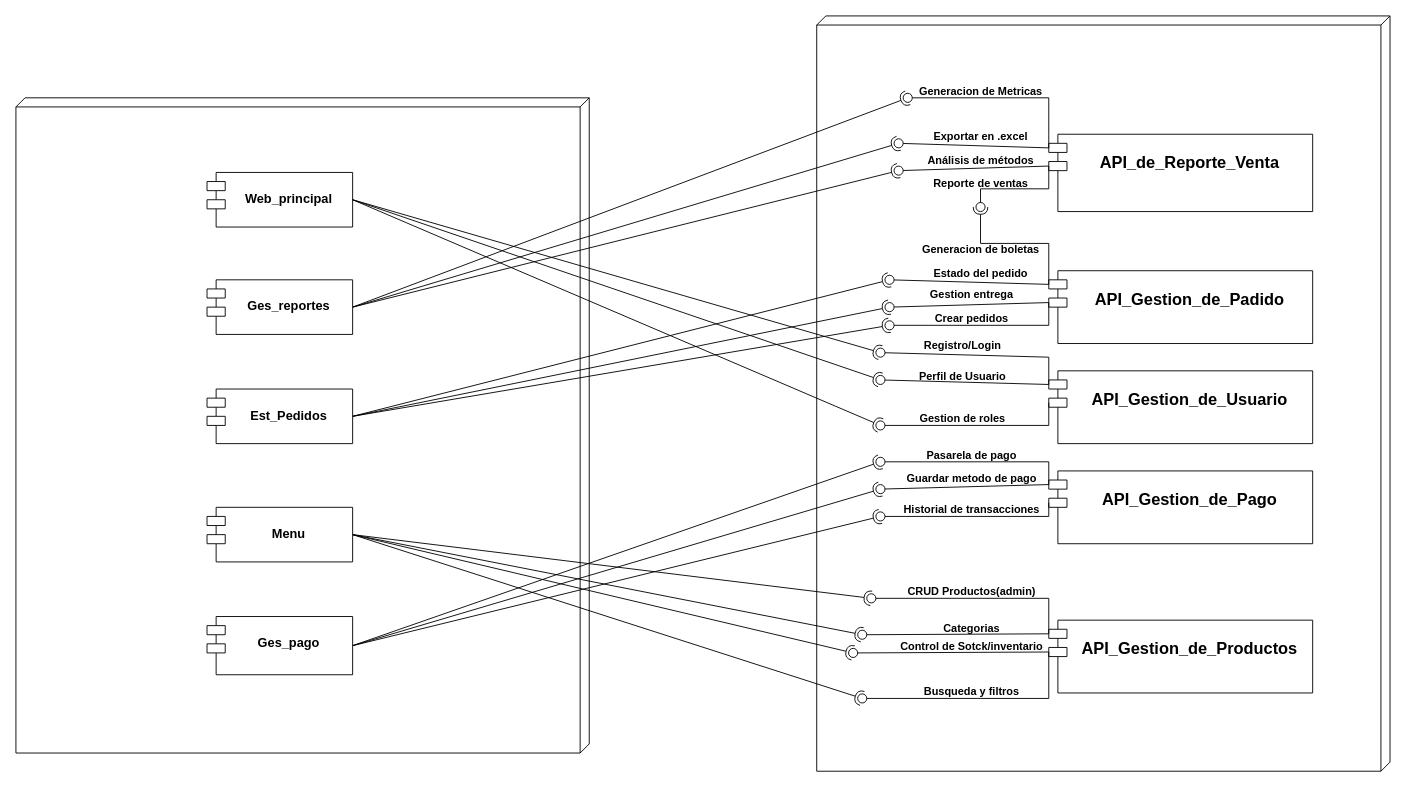
Image size: 1406x787. Some labels were removed from this diagram. The shapes that lost their labels are listed below. From the top down, each one's box as (x1, y1, x2, y2) in pixels, then its label:
(816, 15, 1390, 771): Backend
(15, 97, 589, 753): Frontend
